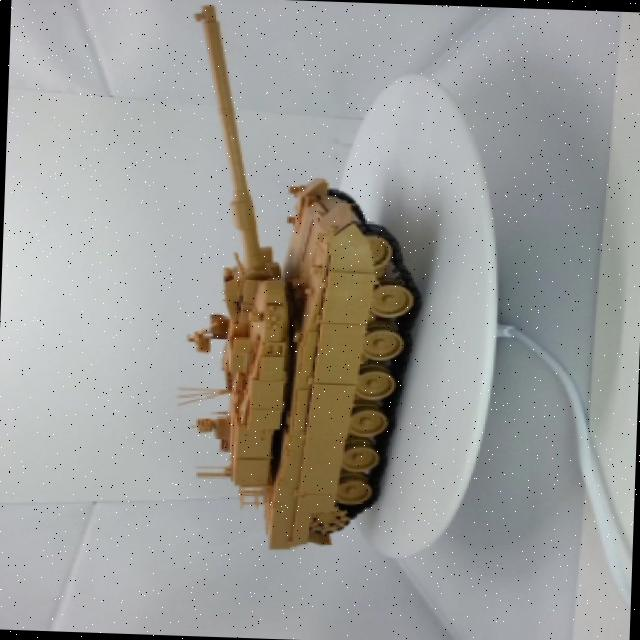korea tank: (160, 0, 442, 587)
